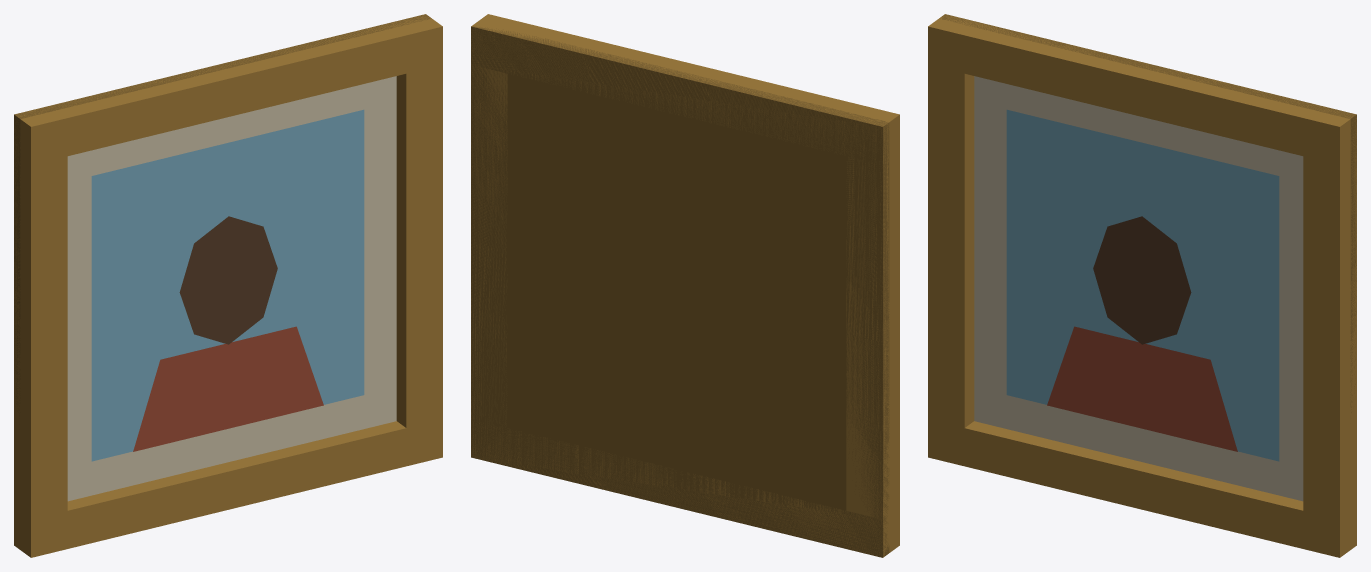
File: picture-frame-18.glb
The picture shows the model from 3 angles, left to right: view 1: azimuth 30°, elevation 25°; view 2: azimuth 150°, elevation 25°; view 3: azimuth 330°, elevation 25°; orthographic projection.
Parts seen in each view (by area): view 1: picture_frame_18; view 2: picture_frame_18; view 3: picture_frame_18.
Part boxes in pixels (box(x1,y1,x2,y2)): picture_frame_18: box(14, 14, 442, 557); picture_frame_18: box(471, 14, 899, 557); picture_frame_18: box(928, 14, 1356, 557).
Bounding box in the file's own units: 0.445 × 0.445 × 0.0319.
